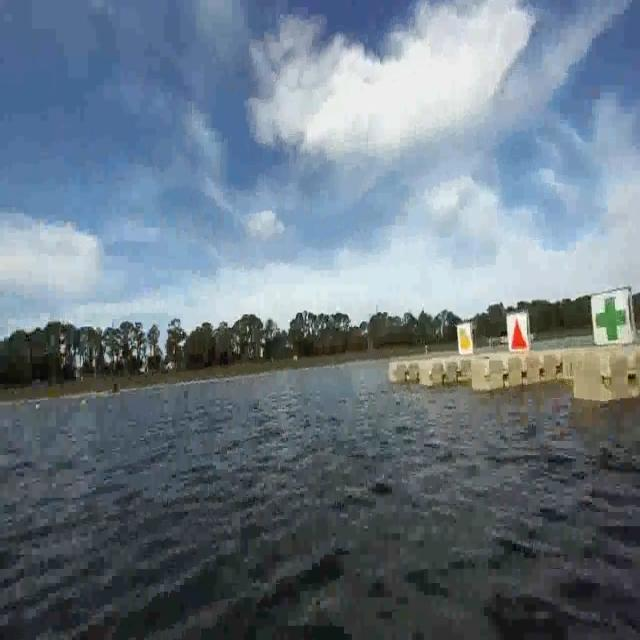blue-cross: (592, 293, 632, 346)
red-column-buoy: (509, 320, 528, 350)
yellow-duck: (456, 321, 474, 354)
